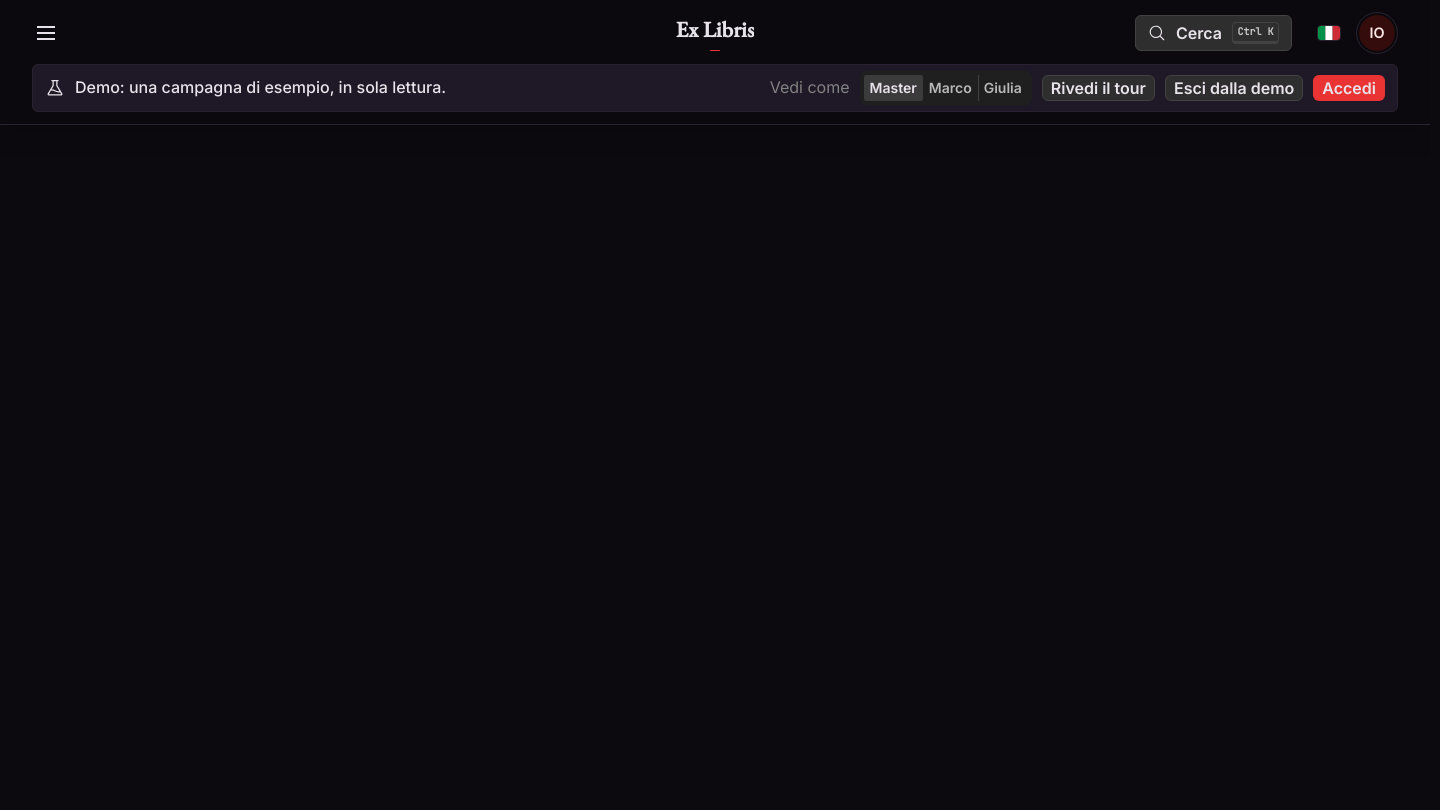
Test: DemoBanner › restarts the tour from its first step
What coordinates should you click on to do the following:
click the button "Rivedi il tour"
I would click on:
 (1098, 88)
Its box is [1042,75,1155,101].
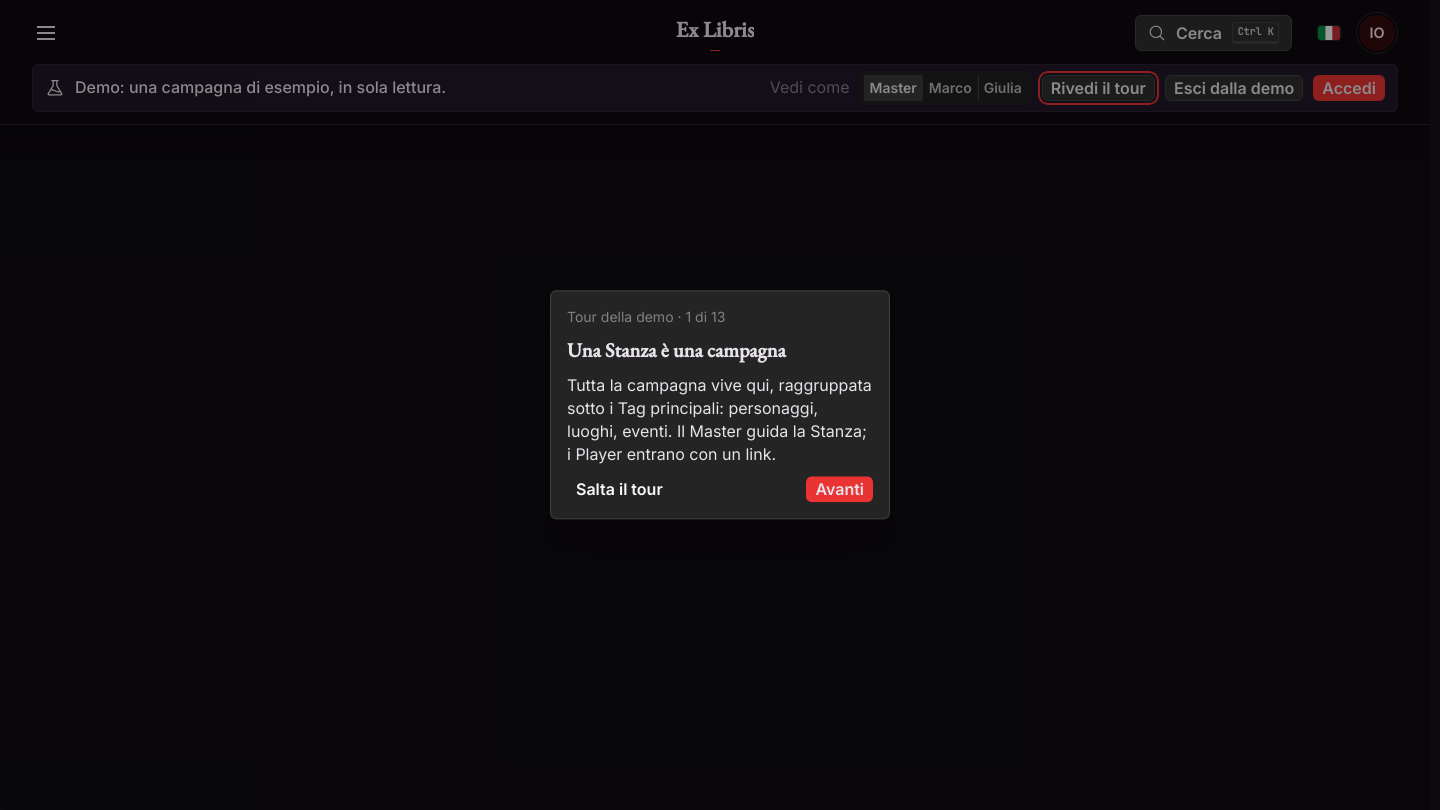
Check: the dialog "Una Stanza è una campagna" is shown, box [550,290,890,520]
